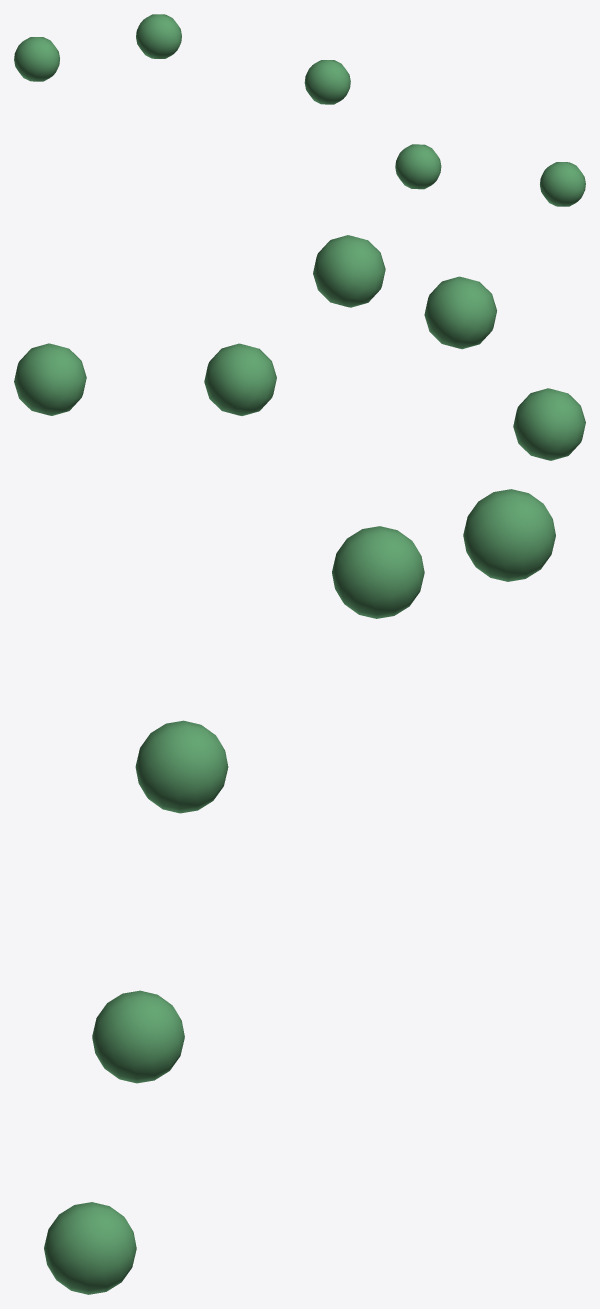
3 renders of one model, top to bottom at view 1: azimuth 30°, elevation 25°; view 2: azimuth 150°, elevation 25°; view 3: azimuth 270°, elevation 25°, orthographic. The views are drawn at different scales.
Visible parts, largest first — view 1: 右侧锁骨下淋巴结; view 2: 右侧锁骨下淋巴结; view 3: 右侧锁骨下淋巴结.
Boxes of the visible parts, x1,y1,x2,y2 form: 右侧锁骨下淋巴结: [14, 14, 585, 206]; 右侧锁骨下淋巴结: [14, 235, 585, 460]; 右侧锁骨下淋巴结: [44, 489, 555, 1294].
Size of the model in its own units: 0.0438 by 0.0198 by 0.0211.
